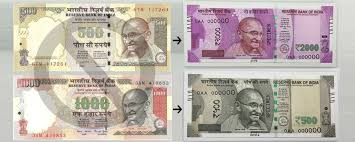fiveHundred: (193, 81, 323, 127)
